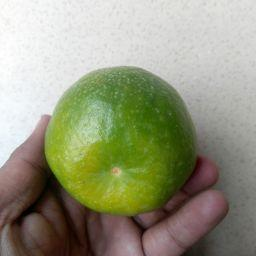Unripe: (43, 67, 197, 215)
